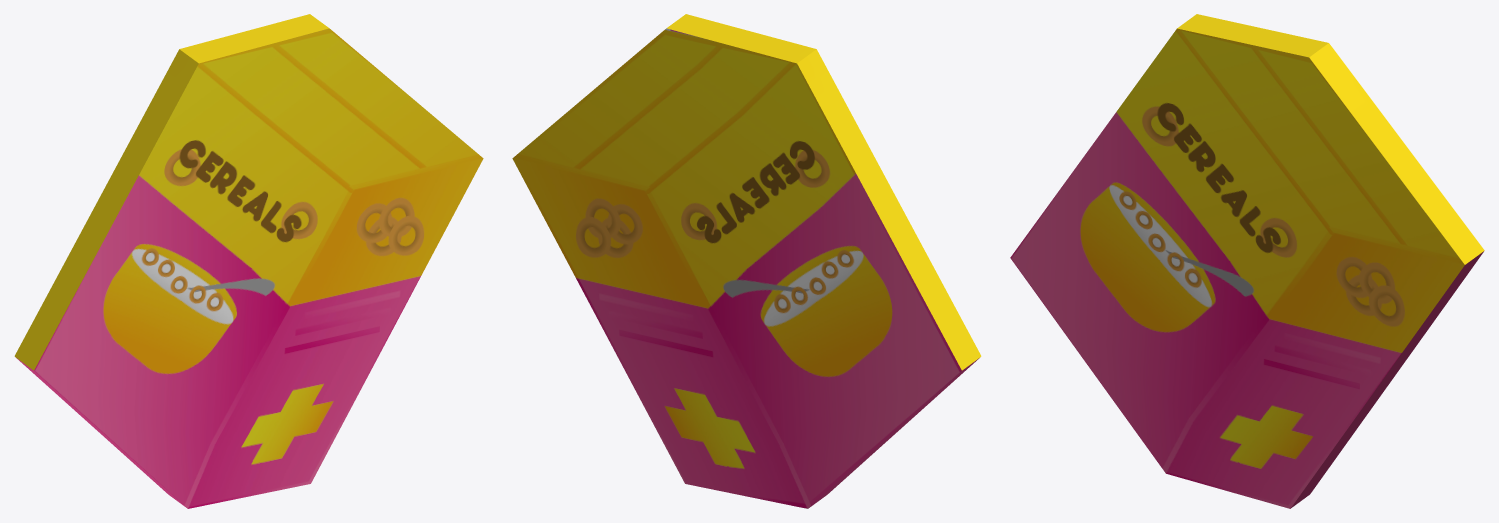
The model's file is Cereals Collectables.fbx.
3 renders of one model, left to right at view 1: azimuth 30°, elevation 25°; view 2: azimuth 150°, elevation 25°; view 3: azimuth 330°, elevation 25°, orthographic.
Parts seen in each view (by area): view 1: polySurface1; view 2: polySurface1; view 3: polySurface1.
Boxes of the visible parts, x1,y1,x2,y2 form: polySurface1: (14, 14, 483, 508); polySurface1: (512, 14, 981, 508); polySurface1: (1010, 14, 1484, 508).
Bounding box in the file's own units: 30.68 × 29.4 × 2.32.
Materials: 1 (1 with a texture image).
